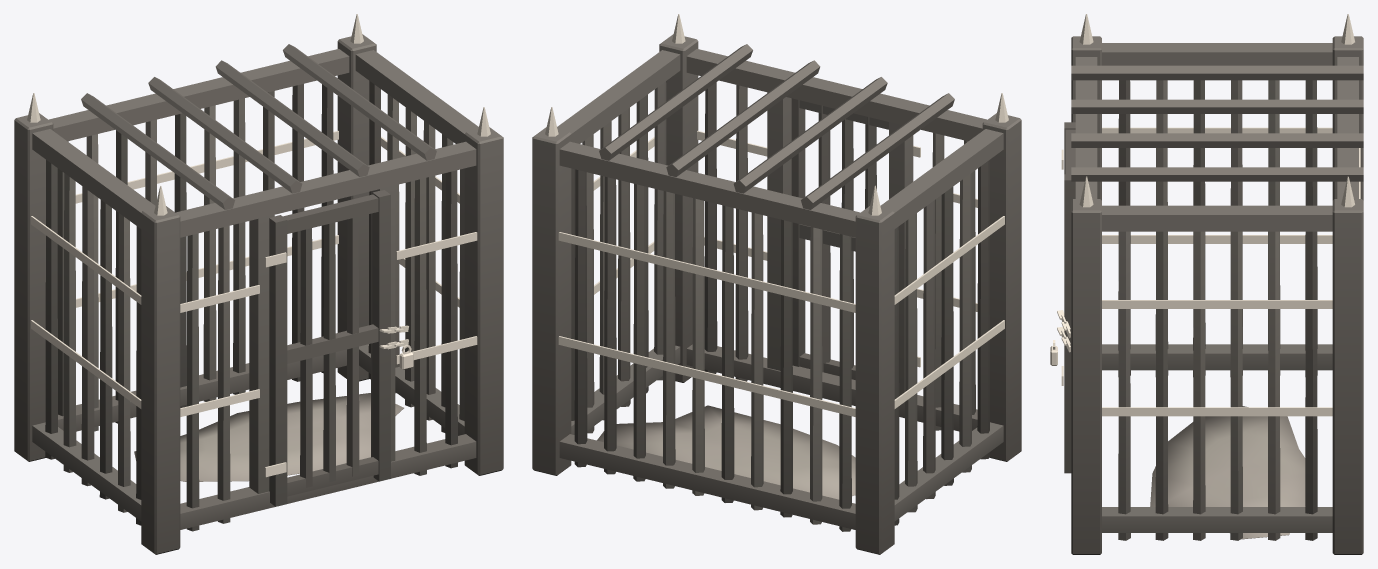
The model's file is SM_VKI_Prop_Orc_Cage.fbx.
3 views of the same model, side by side, from view 1: azimuth 30°, elevation 25°; view 2: azimuth 150°, elevation 25°; view 3: azimuth 270°, elevation 25° (orthographic). The views are drawn at different scales.
Visible parts, largest first — view 1: SM_VKI_Prop_Orc_Cage.001; view 2: SM_VKI_Prop_Orc_Cage.001; view 3: SM_VKI_Prop_Orc_Cage.001.
Part boxes in pixels (box(x1,y1,x2,y2)): SM_VKI_Prop_Orc_Cage.001: box(14, 14, 503, 554); SM_VKI_Prop_Orc_Cage.001: box(532, 14, 1021, 554); SM_VKI_Prop_Orc_Cage.001: box(1050, 14, 1363, 554).
Size of the model in its own units: 2.7 by 2.67 by 2.03.
